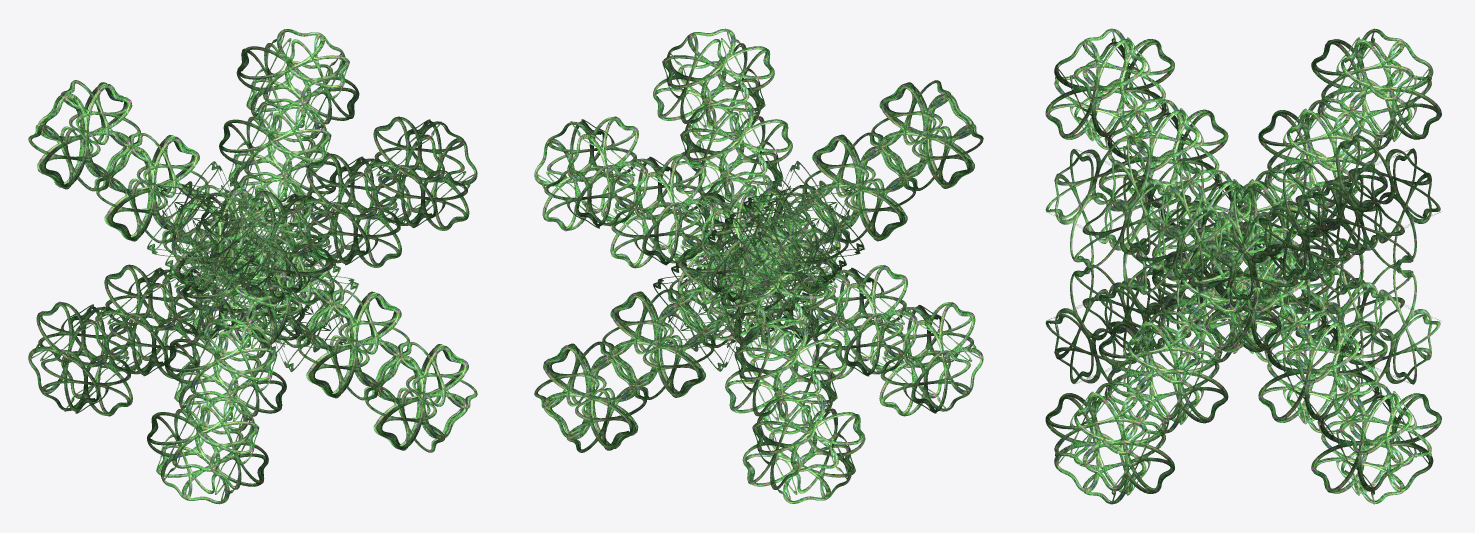
File: StarHexahemioctacron17.gltf
The picture shows the model from 3 angles, left to right: view 1: azimuth 30°, elevation 25°; view 2: azimuth 150°, elevation 25°; view 3: azimuth 270°, elevation 25°; orthographic projection. The views are drawn at different scales.
Visible parts, largest first — view 1: StarHexahemioctacron; view 2: StarHexahemioctacron; view 3: StarHexahemioctacron.
Part boxes in pixels (box(x1,y1,x2,y2)): StarHexahemioctacron: box(28, 29, 477, 504); StarHexahemioctacron: box(534, 28, 983, 503); StarHexahemioctacron: box(1045, 28, 1441, 504).
Size of the model in its own units: 6.25 by 6.25 by 6.25.
Materials: 1 (1 with a texture image).
